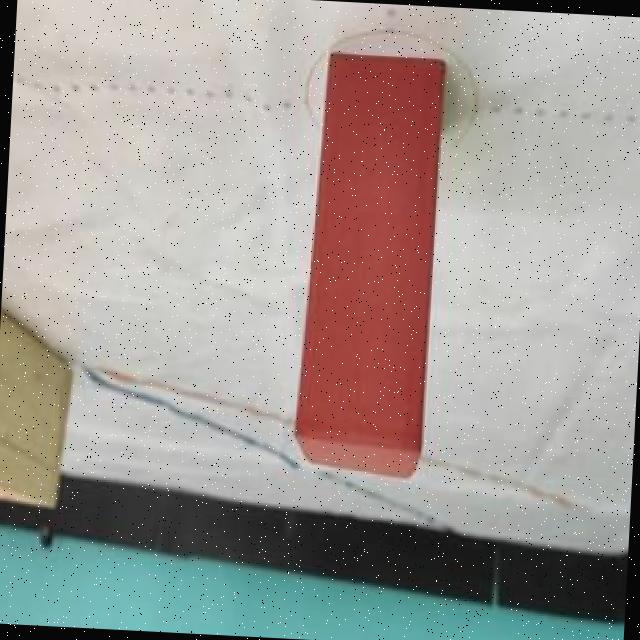redbox: (290, 48, 445, 482)
